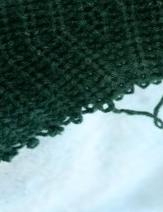snag: (104, 89, 162, 132)
